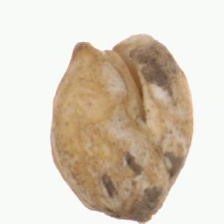L1: (77, 33, 147, 104), (95, 203, 163, 222)
L2: (51, 35, 194, 224)
